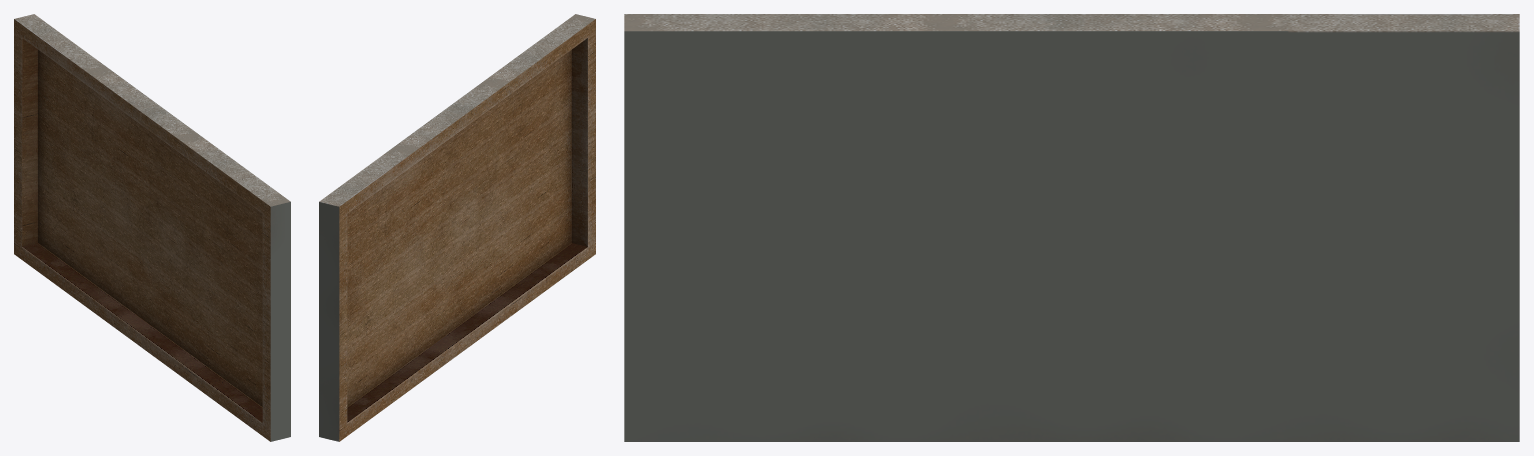
File: SetWall.obj
The picture shows the model from 3 angles, left to right: view 1: azimuth 30°, elevation 25°; view 2: azimuth 150°, elevation 25°; view 3: azimuth 270°, elevation 25°; orthographic projection. The views are drawn at different scales.
Parts seen in each view (by area): view 1: SetWall_Outside SET_ROOM_TELECOMS; view 2: SetWall_Outside SET_ROOM_TELECOMS; view 3: SetWall_Outside SET_ROOM_TELECOMS.
Boxes of the visible parts, bbox=[...] form: SetWall_Outside SET_ROOM_TELECOMS: bbox=[14, 14, 290, 441]; SetWall_Outside SET_ROOM_TELECOMS: bbox=[319, 14, 595, 441]; SetWall_Outside SET_ROOM_TELECOMS: bbox=[624, 14, 1519, 441].
Bounding box in the file's own units: 5.33 × 59.16 × 117.
1 material, 1 textured.
